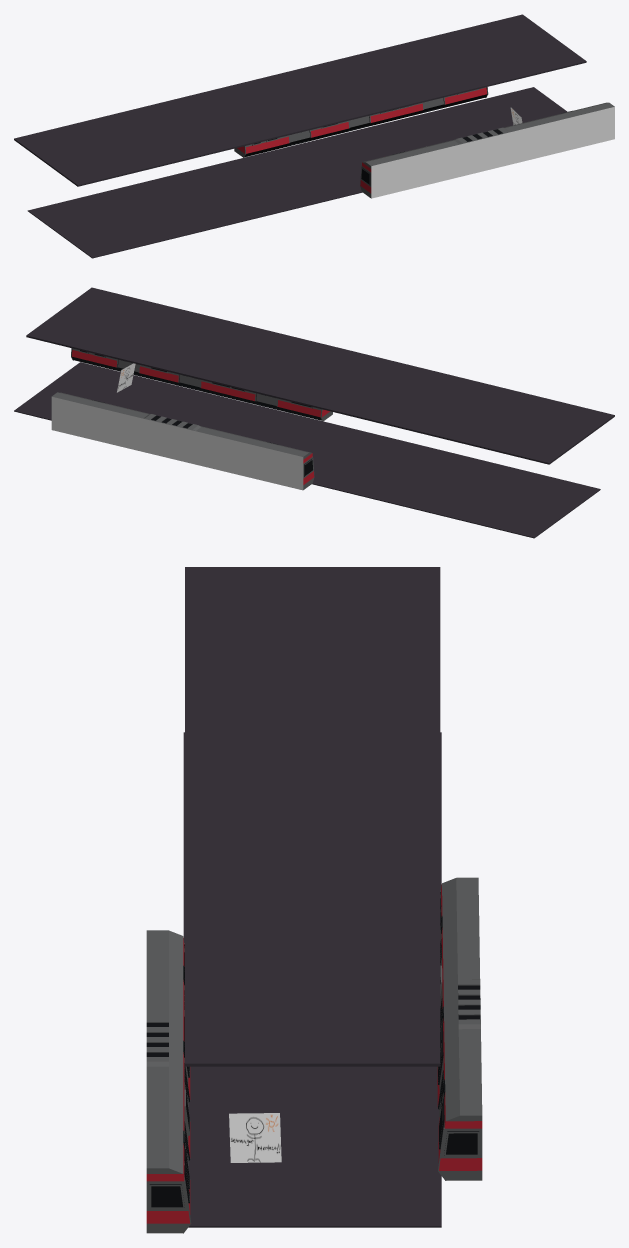
3 renders of one model, top to bottom at view 1: azimuth 30°, elevation 25°; view 2: azimuth 150°, elevation 25°; view 3: azimuth 270°, elevation 25°, orthographic. The views are drawn at different scales.
Parts seen in each view (by area): view 1: Cube.001, Cube, Cube.002, Cube.003; view 2: Cube.001, Cube, Cube.003, Cube.002; view 3: Cube.001, Cube, Cube.002, Cube.003, Plane.
Boxes of the visible parts, x1,y1,x2,y2 form: Cube.001: [14, 14, 586, 186]; Cube: [27, 87, 567, 258]; Cube.002: [360, 102, 614, 198]; Cube.003: [234, 87, 488, 157]; Cube.001: [26, 287, 614, 464]; Cube: [14, 362, 600, 538]; Cube.003: [51, 392, 314, 490]; Cube.002: [71, 348, 332, 421]; Cube.001: [185, 567, 440, 1066]; Cube: [183, 732, 441, 1227]; Cube.002: [146, 930, 191, 1233]; Cube.003: [437, 877, 482, 1180]; Plane: [229, 1113, 281, 1162].
Size of the model in its own units: 47.68 by 6.59 by 13.12.
Materials: 15 (1 with a texture image).
